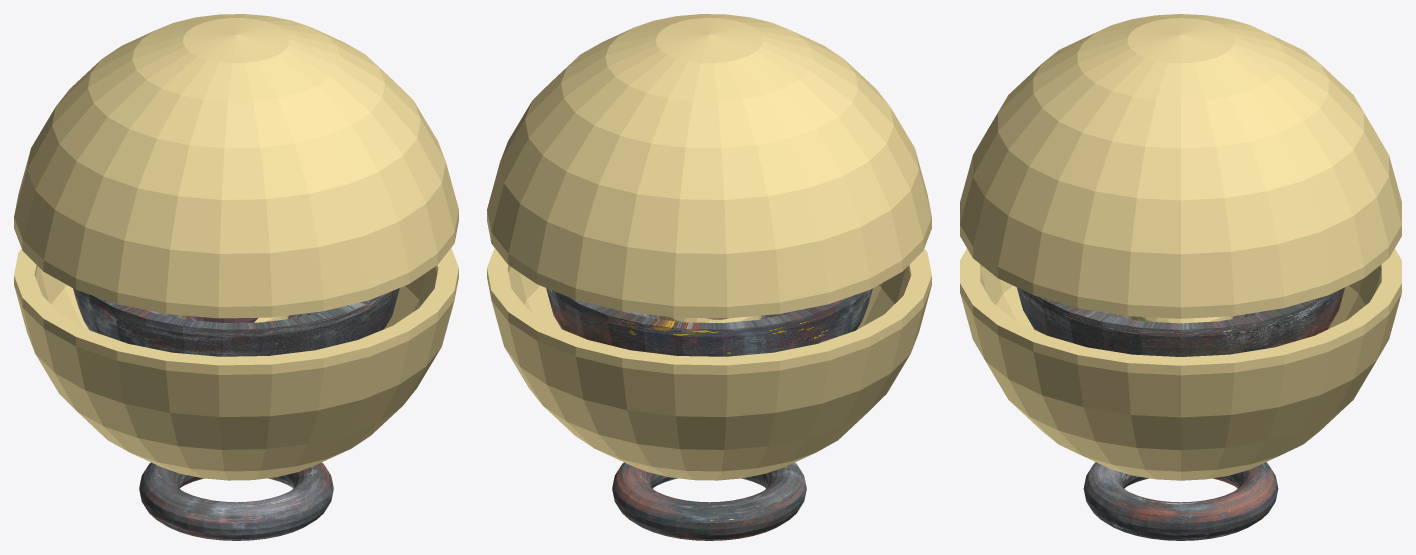
File: mood1All.fbx
3 renders of one model, left to right at view 1: azimuth 30°, elevation 25°; view 2: azimuth 150°, elevation 25°; view 3: azimuth 270°, elevation 25°, orthographic.
Parts seen in each view (by area): view 1: Sphère, Sphère_1, Sphère_2, Tore; view 2: Sphère, Sphère_1, Sphère_2, Tore; view 3: Sphère, Sphère_1, Sphère_2, Tore.
Part boxes in pixels (x1,y1,x2,y2): Sphère: (14,14,458,318); Sphère_1: (14,248,458,480); Sphère_2: (73,288,399,356); Tore: (139,462,333,540); Sphère: (487,14,931,318); Sphère_1: (487,248,931,480); Sphère_2: (546,288,872,356); Tore: (612,462,806,540); Sphère: (960,14,1401,318); Sphère_1: (960,248,1401,480); Sphère_2: (1017,287,1344,356); Tore: (1083,462,1278,540).
Size of the model in its own units: 10.94 by 12.77 by 10.86.
3 materials, 1 textured.
